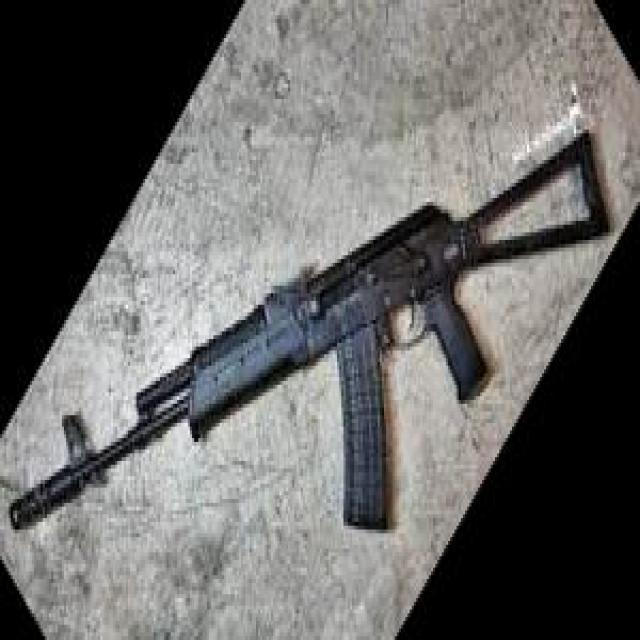weapon: (8, 131, 611, 534)
